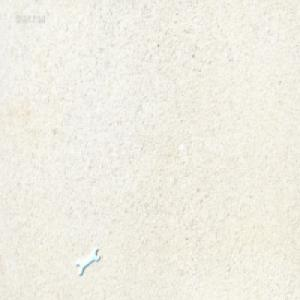Wrench: (76, 247, 100, 276)
